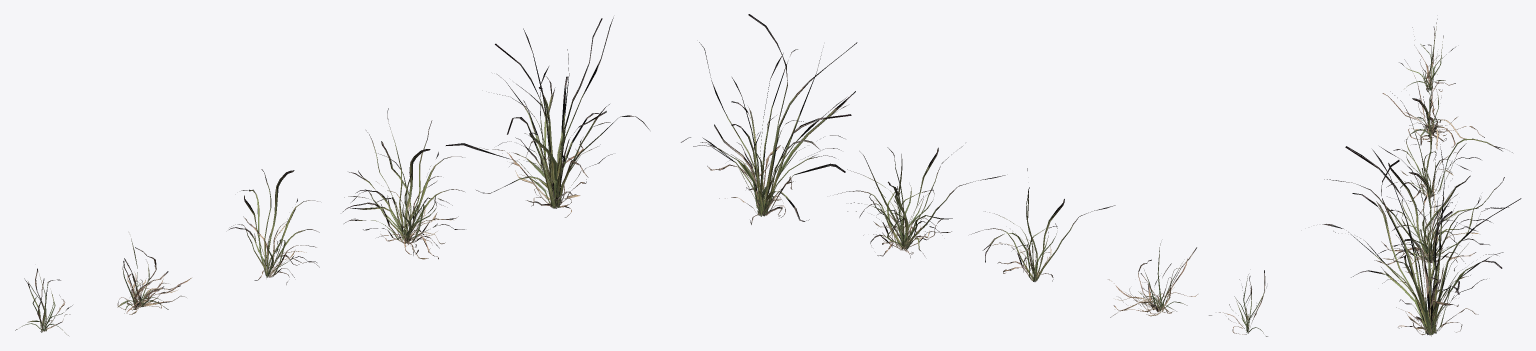
File: grass_medium_02.glb
3 views of the same model, side by side, from view 1: azimuth 30°, elevation 25°; view 2: azimuth 150°, elevation 25°; view 3: azimuth 270°, elevation 25° (orthographic). The views are drawn at different scales.
Parts seen in each view (by area): view 1: grass_medium_02_a; view 2: grass_medium_02_a; view 3: grass_medium_02_a.
Part boxes in pixels (x1,y1,x2,y2): grass_medium_02_a: (15, 17, 649, 335); grass_medium_02_a: (681, 14, 1267, 336); grass_medium_02_a: (1322, 19, 1521, 336).
Bounding box in the file's own units: 1.31 × 0.4053 × 0.4326.
1 material, 1 textured.
